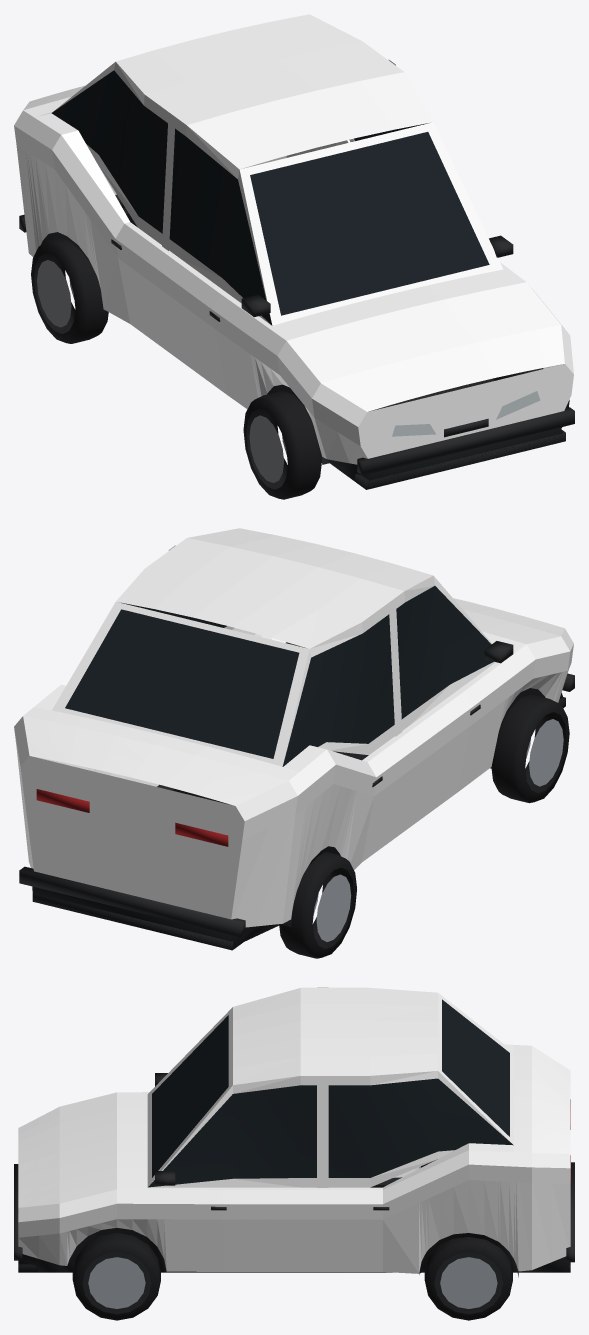
File: tomoe_varanda.glb
3 renders of one model, top to bottom at view 1: azimuth 30°, elevation 25°; view 2: azimuth 150°, elevation 25°; view 3: azimuth 270°, elevation 25°, orthographic. The views are drawn at different scales.
Visible parts, largest first — view 1: Body_Paint, Body_Details, Mount_FrontLeft_Wheel_Details, Mount_RearLeft_Wheel_Details; view 2: Body_Paint, Body_Details, Mount_FrontLeft_Wheel_Details, Mount_RearLeft_Wheel_Details; view 3: Body_Paint, Body_Details, Mount_FrontRight_Wheel_Details, Mount_RearRight_Wheel_Details.
Part boxes in pixels (x1,y1,x2,y2): Body_Paint: (14, 14, 573, 464); Body_Details: (19, 70, 574, 489); Mount_FrontLeft_Wheel_Details: (243, 391, 321, 499); Mount_RearLeft_Wheel_Details: (31, 237, 108, 343); Body_Paint: (14, 528, 573, 927); Body_Details: (19, 586, 574, 950); Mount_FrontLeft_Wheel_Details: (491, 694, 569, 803); Mount_RearLeft_Wheel_Details: (279, 852, 356, 958); Body_Paint: (18, 987, 570, 1273); Body_Details: (14, 999, 574, 1277); Mount_FrontRight_Wheel_Details: (72, 1233, 160, 1320); Mount_RearRight_Wheel_Details: (424, 1237, 512, 1320).
Bounding box in the file's own units: 1.72 × 1.66 × 3.56.
2 materials, 1 textured.
